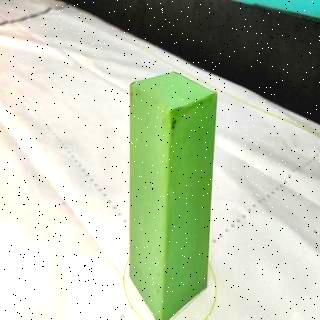greenbox: (128, 70, 218, 320)
